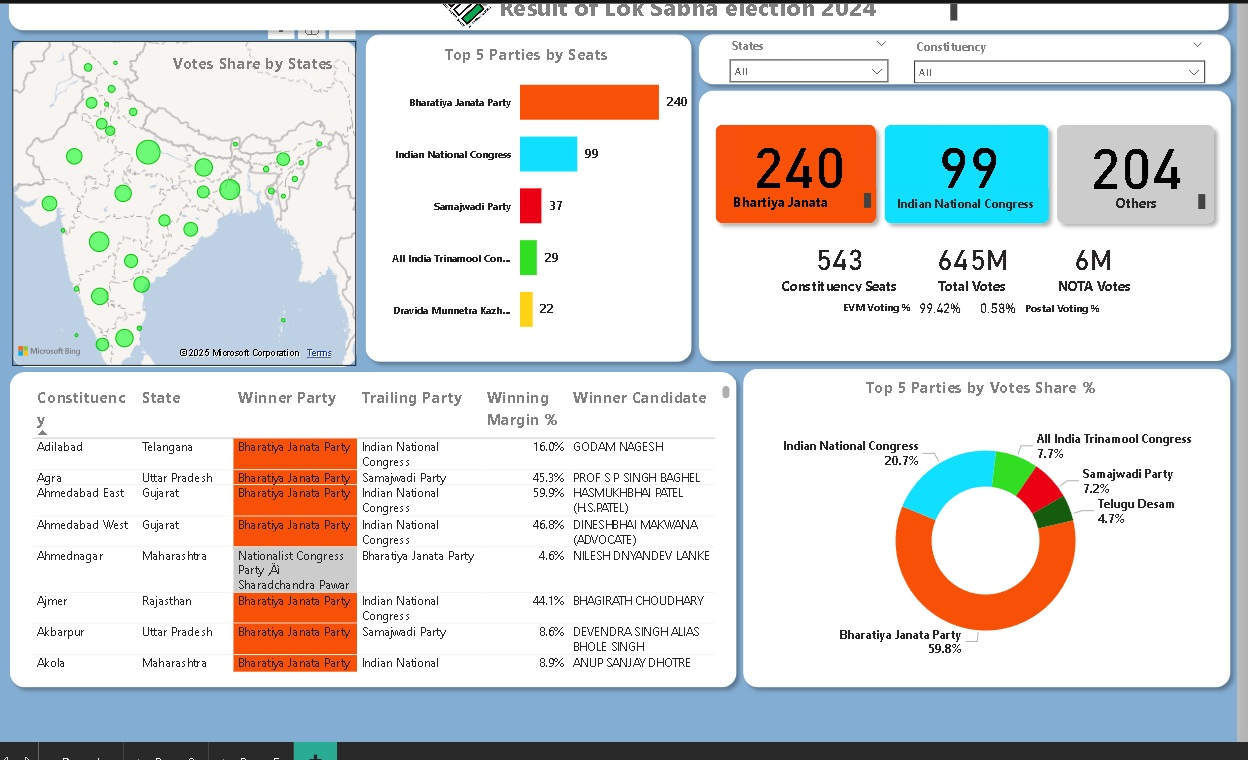

Layout of this report page (visuals, bound fields, positions):
{"tool":"powerbi","page":{"name":"Page 1","canvas":[1280,800],"ordinal":0},"visuals":[{"type":"shape","box":[714.3,59.7,567.5,70],"z":0},{"type":"shape","box":[1.8,408,768.8,343.8],"z":1000},{"type":"shape","box":[370.1,59.7,355,356.7],"z":2000},{"type":"shape","box":[760.3,405.1,521.4,347.1],"z":3000},{"type":"shape","box":[714.1,118,567.7,297.7],"z":4000},{"type":"tableEx","fields":{"Values":["sheet1.constituency_name","sheet1.state_name","Key Measures.Winner Party","Key Measures.Trailing Party","Key Measures.Winning Margin %","Key Measures.Winner Candidate"]},"box":[28,425.5,732.5,306.2],"z":5000},{"type":"textbox","box":[1055.8,335.7,110,40],"z":6000},{"type":"card","title":"Constituency Seats","fields":{"Values":["Key Measures.Total Constituencies"]},"box":[812.4,280.3,111.4,36.7],"z":7000},{"type":"slicer","fields":{"Values":["sheet1.constituency_name"]},"box":[939.9,72.5,310.9,46.4],"z":8000},{"type":"card","fields":{"Values":["Key Measures.% EVM Votes"]},"box":[942.7,338,59.2,27.7],"z":9000},{"type":"card","fields":{"Values":["Key Measures.Total Votes"]},"box":[958.7,280.3,94.6,36.9],"z":10000},{"type":"card","fields":{"Values":["Key Measures.% Postal Votes"]},"box":[1006.5,338,50.8,27.7],"z":11000},{"type":"card","fields":{"Values":["Key Measures.Total Votes for NOTA"]},"box":[1098.7,280.3,63.1,36.9],"z":12000},{"type":"barChart","fields":{"Y":["Key Measures.Seats Won"],"Category":["sheet1.party_name"]},"box":[383.2,90.9,328.6,302.9],"z":13000},{"type":"donutChart","fields":{"Category":["sheet1.party_name"],"Y":["Key Measures.Total Votes by Party"]},"box":[770,465.7,498.6,251.4],"z":14000},{"type":"textbox","box":[797,313.5,142.2,28.4],"z":15000},{"type":"textbox","box":[934.5,313.5,142.2,28.4],"z":16000},{"type":"textbox","box":[1061.3,313.5,142.2,28.4],"z":17000},{"type":"shape","box":[731.8,153.4,183.8,120],"z":18000},{"type":"textbox","box":[746.7,227.3,160,32],"z":19000},{"type":"shape","box":[905.6,153.4,187.7,120],"z":20000},{"type":"textbox","box":[916,228,168,31.3],"z":21000},{"type":"shape","box":[1084.1,153.4,180.8,120],"z":22000},{"type":"textbox","box":[1108,228,143.1,26.9],"z":23000},{"type":"textbox","box":[853.3,334.7,96,31.3],"z":24000},{"type":"slicer","fields":{"Values":["sheet1.state_name"]},"box":[749.5,71.3,174.4,47.8],"z":25000},{"type":"map","fields":{"Category":["sheet1.state_name"],"Size":["Key Measures.Total Votes"]},"box":[13.7,75.3,356,336.6],"z":26000},{"type":"card","fields":{"Values":["Key Measures.BJP Seats Won"]},"box":[767.9,162.6,117.7,70.8],"z":27000},{"type":"card","fields":{"Values":["Key Measures.Congress Seats Won"]},"box":[962.5,162.6,77.7,70.8],"z":28000},{"type":"card","fields":{"Values":["Key Measures.Others seat"]},"box":[1116.8,163,115.6,71.2],"z":29000},{"type":"textbox","box":[420.3,72.3,250,37.1],"z":30000},{"type":"textbox","box":[883.2,415.1,262.9,34.3],"z":31000},{"type":"textbox","box":[167.5,80.9,190,37.1],"z":32000},{"type":"shape","box":[1.4,2.9,1278.6,70],"z":33000},{"type":"textbox","box":[511.4,17.1,484.3,42.9],"z":34000},{"type":"image","box":[454.3,12.9,58.6,51.4],"z":35000}]}

Visuals, with their boxes on the page's 1280x800 design canvas (x1, y1, x2, y2). These are canvas units, not pixel positions in the 1248x760 screenshot, which may show the page scaled, cropped or inside an application window:
shape: 714/60/1282/130
shape: 2/408/771/752
shape: 370/60/725/416
shape: 760/405/1282/752
shape: 714/118/1282/416
tableEx - sheet1.constituency_name x sheet1.state_name: 28/426/760/732
textbox: 1056/336/1166/376
"Constituency Seats" card: 812/280/924/317
slicer - sheet1.constituency_name: 940/72/1251/119
card - Key Measures.% EVM Votes: 943/338/1002/366
card - Key Measures.Total Votes: 959/280/1053/317
card - Key Measures.% Postal Votes: 1006/338/1057/366
card - Key Measures.Total Votes for NOTA: 1099/280/1162/317
barChart - Key Measures.Seats Won x sheet1.party_name: 383/91/712/394
donutChart - sheet1.party_name x Key Measures.Total Votes by Party: 770/466/1269/717
textbox: 797/314/939/342
textbox: 934/314/1077/342
textbox: 1061/314/1204/342
shape: 732/153/916/273
textbox: 747/227/907/259
shape: 906/153/1093/273
textbox: 916/228/1084/259
shape: 1084/153/1265/273
textbox: 1108/228/1251/255
textbox: 853/335/949/366
slicer - sheet1.state_name: 750/71/924/119
map - sheet1.state_name x Key Measures.Total Votes: 14/75/370/412
card - Key Measures.BJP Seats Won: 768/163/886/233
card - Key Measures.Congress Seats Won: 962/163/1040/233
card - Key Measures.Others seat: 1117/163/1232/234
textbox: 420/72/670/109
textbox: 883/415/1146/449
textbox: 168/81/358/118
shape: 1/3/1280/73
textbox: 511/17/996/60
image: 454/13/513/64
